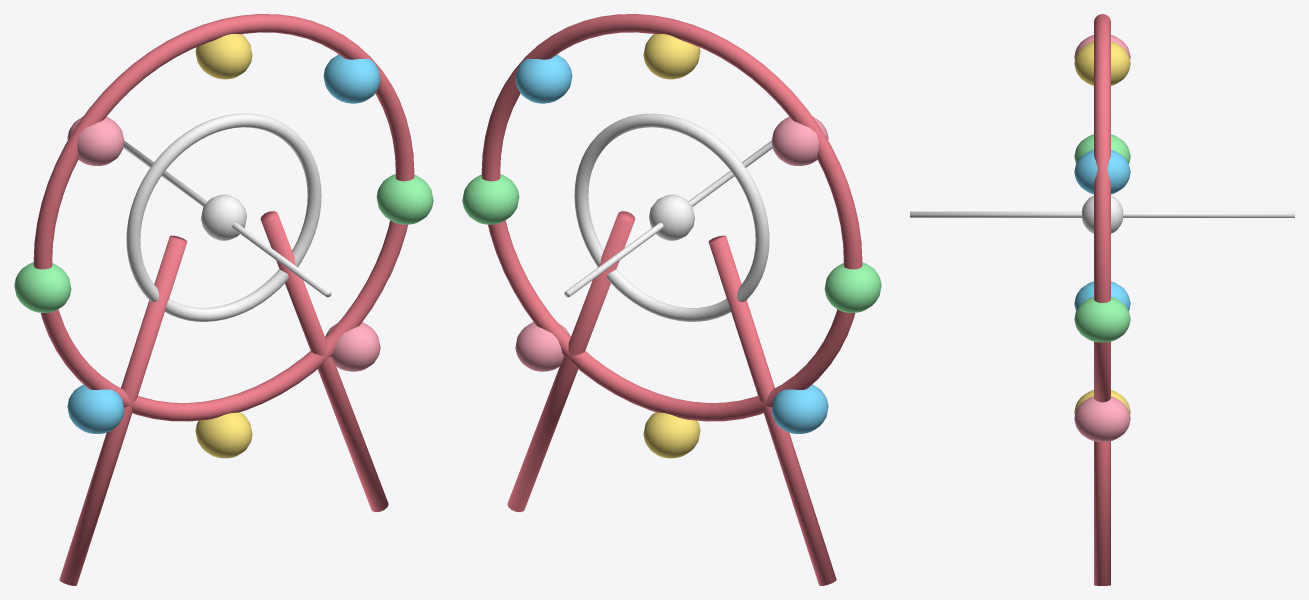
Rendered from ferris_wheel.glb.
The picture shows the model from 3 angles, left to right: view 1: azimuth 30°, elevation 25°; view 2: azimuth 150°, elevation 25°; view 3: azimuth 270°, elevation 25°; orthographic projection. The views are drawn at different scales.
Parts seen in each view (by area): view 1: Torus, Torus.001, Cylinder.012, Cylinder.013, Sphere.002, Sphere.006, Sphere.001, Sphere.005, Sphere.004, Sphere, Sphere.007, Sphere.003 (+2 smaller); view 2: Torus, Torus.001, Cylinder.012, Cylinder.013, Sphere.002, Sphere.006, Sphere.001, Sphere.005, Sphere.004, Sphere, Sphere.007, Sphere.003 (+2 smaller); view 3: Torus, Cylinder.013, Sphere.003, Sphere.002, Sphere.001, Sphere, Cylinder, Cylinder.006, Sphere.008, Sphere.005, Sphere.006, Cylinder.001 (+4 smaller).
Boxes of the visible parts, x1=… form: Torus: x1=33, y1=14, x2=414, y2=421; Torus.001: x1=126, y1=113, x2=321, y2=321; Cylinder.012: x1=59, y1=235, x2=187, y2=585; Cylinder.013: x1=260, y1=211, x2=388, y2=512; Sphere.002: x1=376, y1=174, x2=433, y2=224; Sphere.006: x1=14, y1=262, x2=71, y2=312; Sphere.001: x1=323, y1=54, x2=380, y2=103; Sphere.005: x1=67, y1=384, x2=124, y2=433; Sphere.004: x1=195, y1=412, x2=252, y2=458; Sphere: x1=195, y1=34, x2=252, y2=79; Sphere.007: x1=67, y1=116, x2=124, y2=165; Sphere.003: x1=325, y1=322, x2=380, y2=371; Torus: x1=481, y1=14, x2=862, y2=421; Torus.001: x1=574, y1=113, x2=769, y2=321; Cylinder.012: x1=708, y1=235, x2=836, y2=585; Cylinder.013: x1=507, y1=211, x2=635, y2=512; Sphere.002: x1=462, y1=174, x2=519, y2=224; Sphere.006: x1=824, y1=262, x2=881, y2=312; Sphere.001: x1=515, y1=54, x2=572, y2=103; Sphere.005: x1=771, y1=384, x2=828, y2=433; Sphere.004: x1=643, y1=412, x2=700, y2=458; Sphere: x1=643, y1=34, x2=700, y2=79; Sphere.007: x1=771, y1=116, x2=828, y2=165; Sphere.003: x1=515, y1=322, x2=570, y2=371; Torus: x1=1094, y1=14, x2=1110, y2=402; Cylinder.013: x1=1094, y1=441, x2=1110, y2=585; Sphere.003: x1=1074, y1=396, x2=1130, y2=441; Sphere.002: x1=1074, y1=297, x2=1130, y2=342; Sphere.001: x1=1074, y1=150, x2=1130, y2=194; Sphere: x1=1074, y1=41, x2=1130, y2=85; Cylinder: x1=910, y1=211, x2=1294, y2=217; Cylinder.006: x1=995, y1=213, x2=1294, y2=217; Sphere.008: x1=1082, y1=195, x2=1122, y2=233; Sphere.005: x1=1074, y1=281, x2=1130, y2=310; Sphere.006: x1=1074, y1=134, x2=1130, y2=163; Cylinder.001: x1=1053, y1=212, x2=1294, y2=217.
Bounding box in the file's own units: 1.16 × 1.42 × 1.02.
